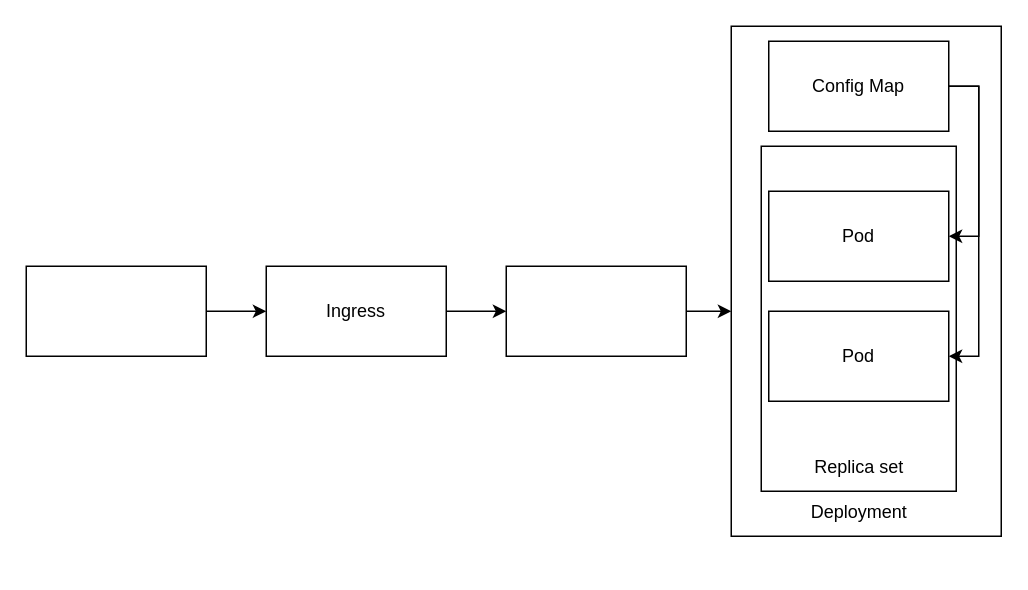
This 1028x590 diagram has some shape labels left out. The shapes that lost their labels are listed below. From the top down, each one's centre as x and y in pixels, then its label:
the point at 115,310: PC
the point at 595,310: Expose Service
